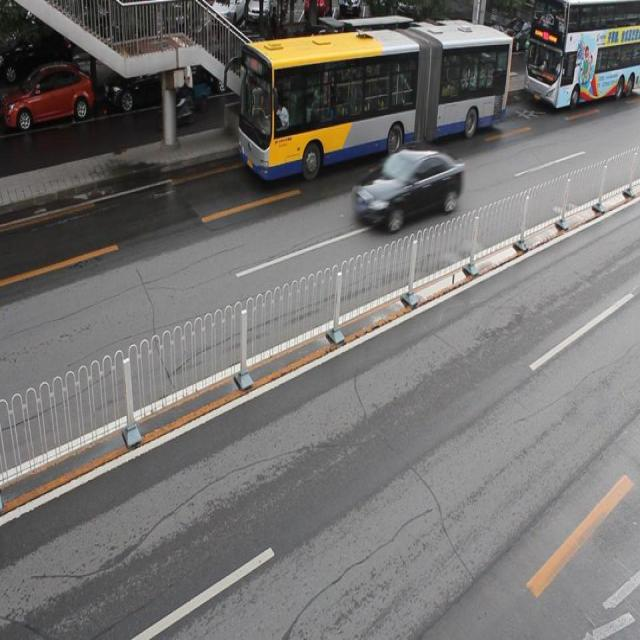car: (353, 144, 463, 229), (1, 61, 93, 130), (103, 44, 194, 105), (207, 31, 273, 95), (290, 26, 362, 84)
van: (239, 22, 510, 170), (527, 1, 640, 107)
